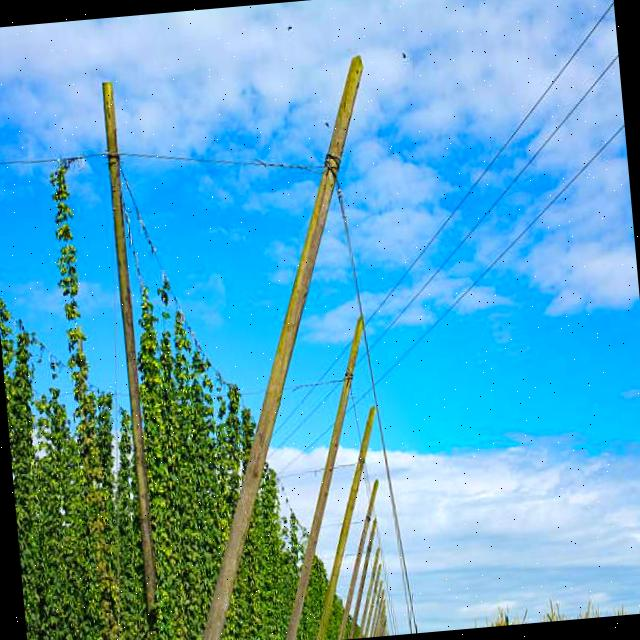Broken Pole: (187, 49, 375, 640), (277, 313, 369, 640), (310, 399, 376, 640), (332, 474, 383, 639)
